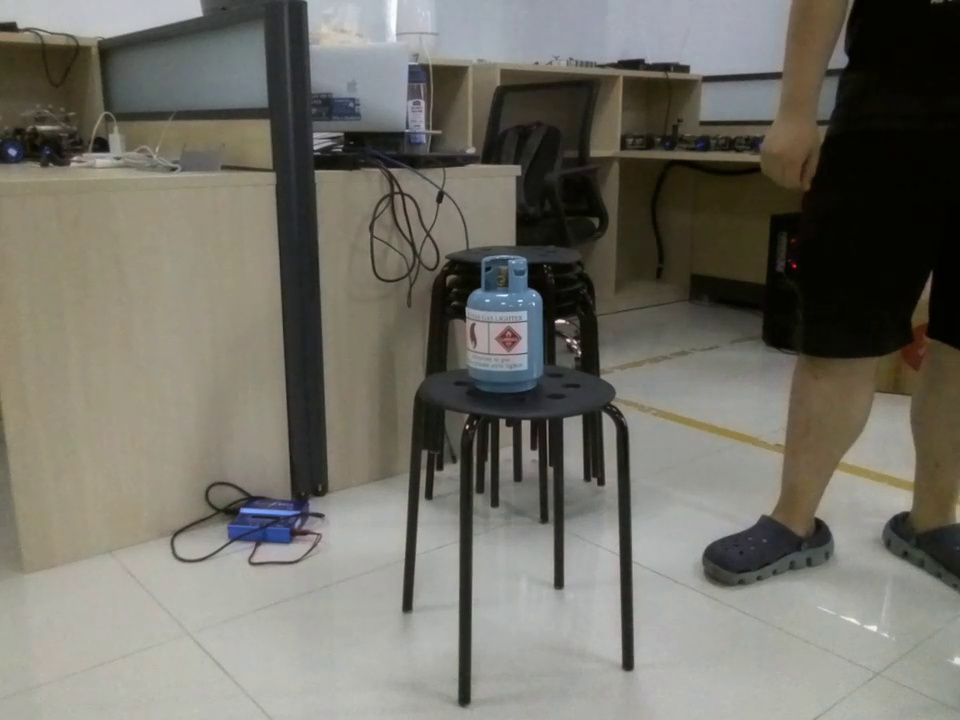gas tank: (460, 248, 550, 396)
